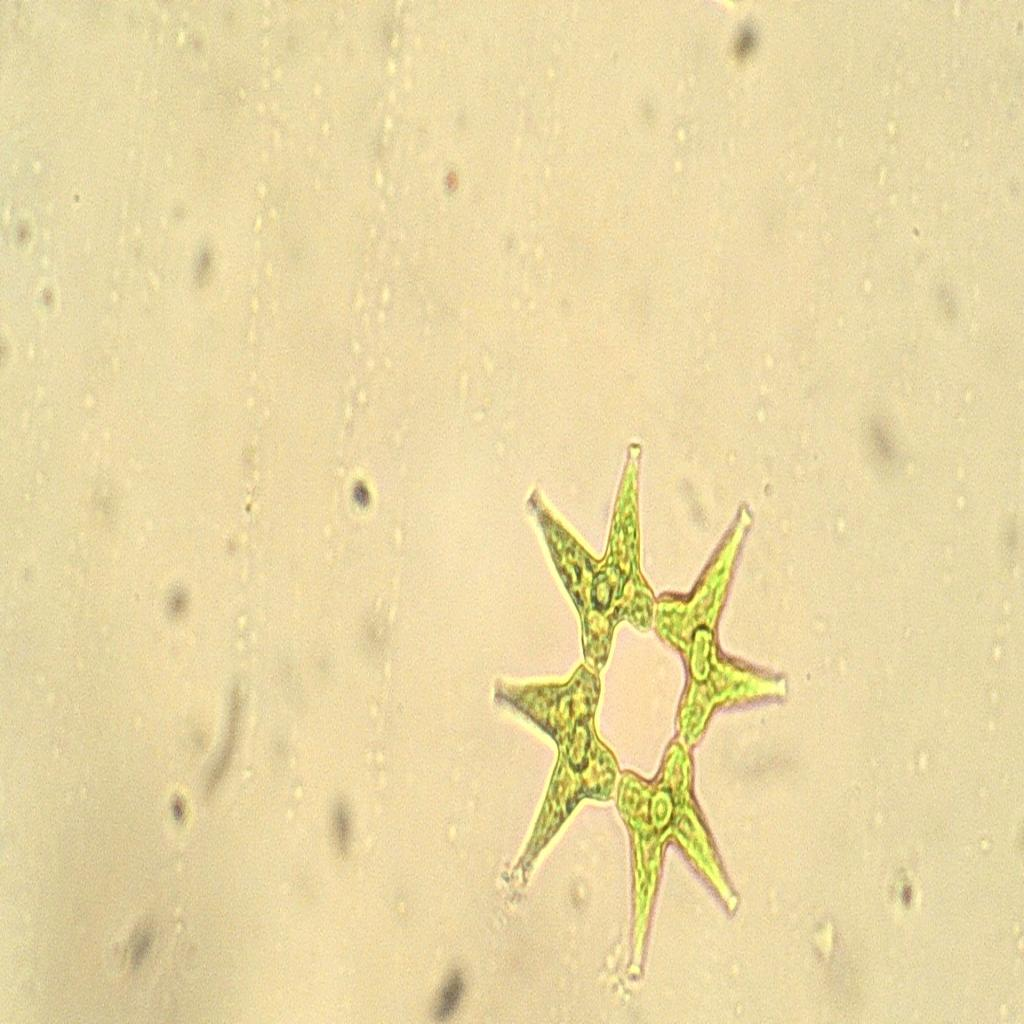Pediastrum_75O: (470, 420, 813, 1003)
